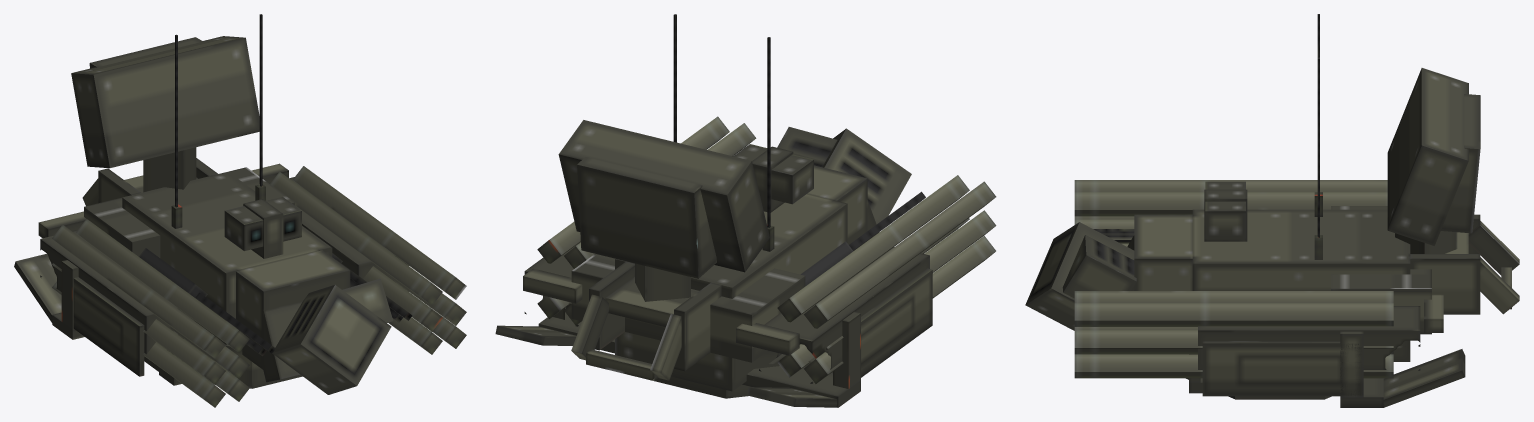
Rendered from turret_pancsir.obj.
The picture shows the model from 3 angles, left to right: view 1: azimuth 30°, elevation 25°; view 2: azimuth 150°, elevation 25°; view 3: azimuth 270°, elevation 25°; orthographic projection. The views are drawn at different scales.
Visible parts, largest first — view 1: turret, gun, radar; view 2: turret, gun, radar; view 3: gun, turret, radar.
Boxes of the visible parts, x1,y1,x2,y2 form: turret: (14, 14, 393, 394); gun: (38, 163, 466, 407); radar: (71, 36, 259, 192); turret: (495, 14, 911, 407); gun: (523, 116, 996, 383); radar: (558, 120, 769, 301); gun: (1074, 180, 1443, 396); turret: (1025, 14, 1519, 407); radar: (1387, 68, 1480, 253).
Bounding box in the file's own units: 3.54 × 3.79 × 5.34.
